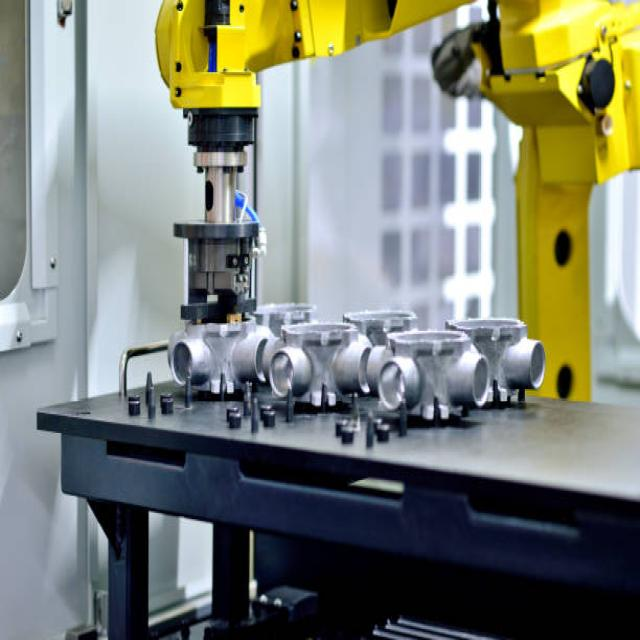Robotic-arm: (138, 0, 639, 417)
